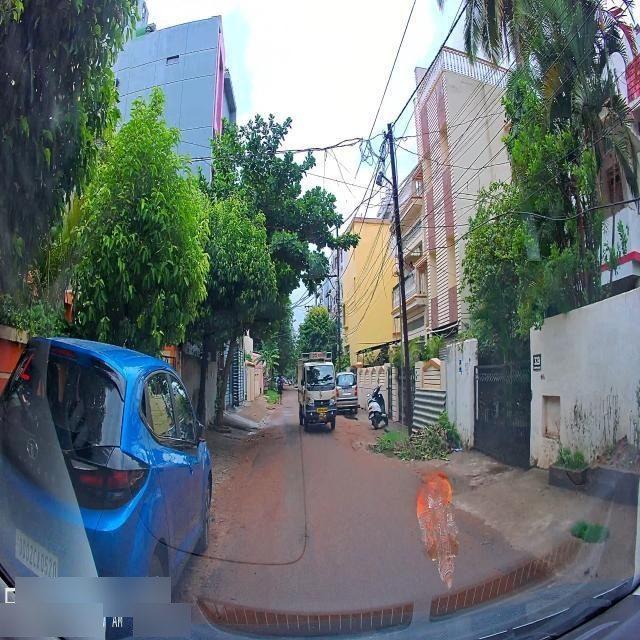pothole: (300, 526, 312, 546)
